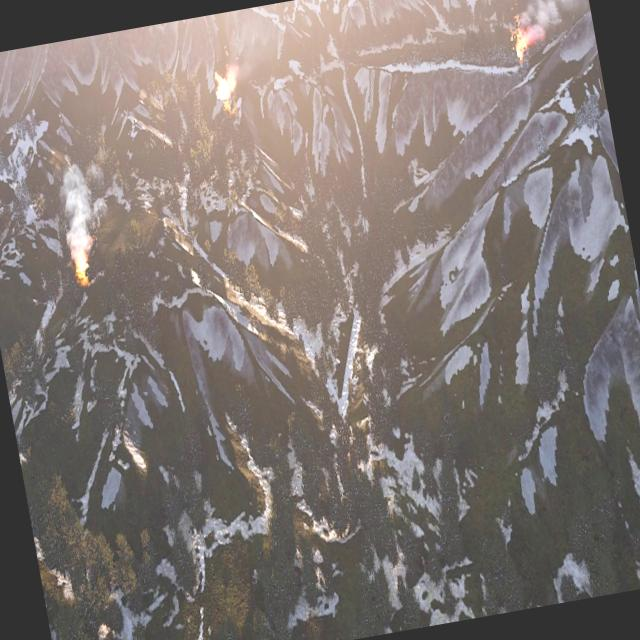fire: (213, 66, 243, 105), (512, 29, 533, 59), (74, 248, 92, 276)
smoke: (52, 158, 115, 252), (517, 0, 585, 44)
